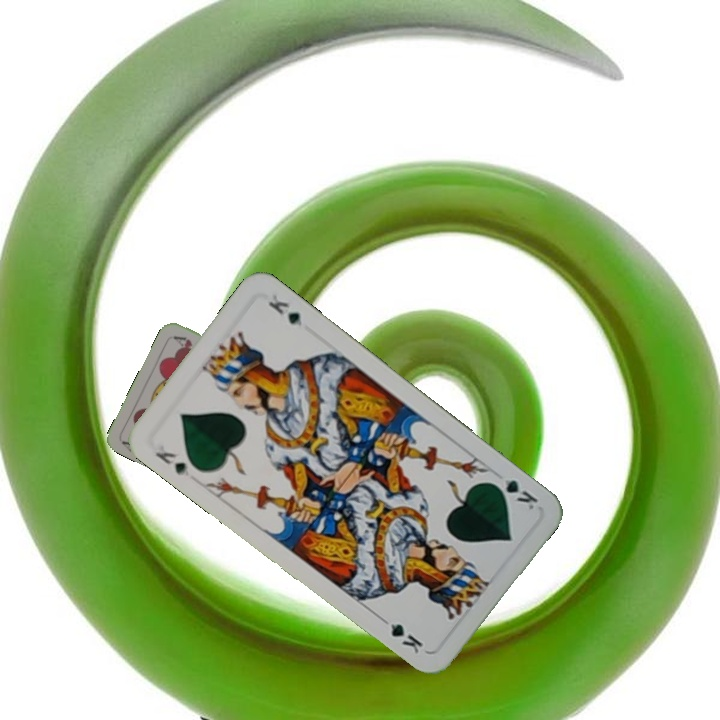GK: (486, 475, 541, 512), (150, 447, 192, 479)
